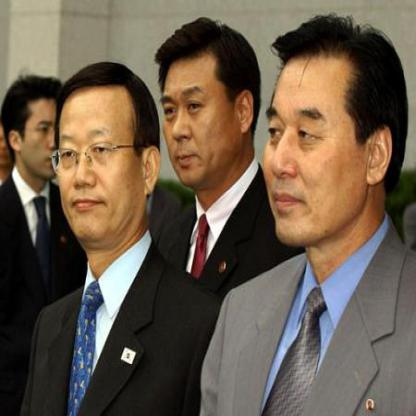face: (251, 33, 372, 253), (53, 71, 148, 249), (157, 33, 244, 192), (19, 82, 71, 182)
